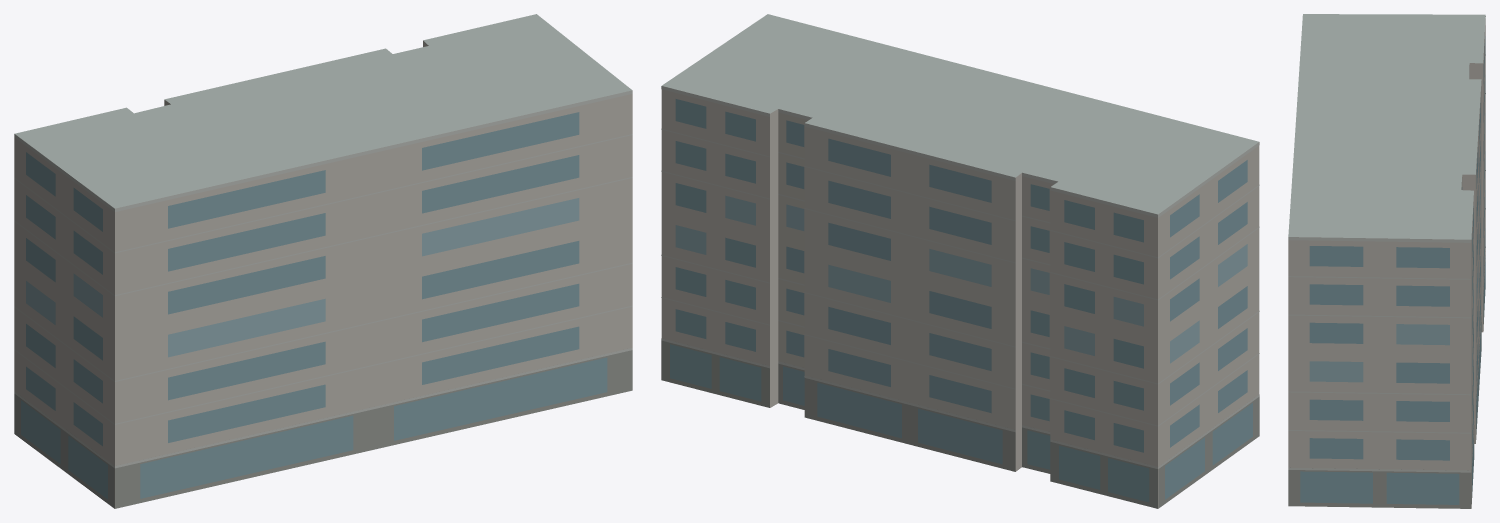
The model's file is survey-upis-32796885.glb.
3 views of the same model, side by side, from view 1: azimuth 30°, elevation 25°; view 2: azimuth 150°, elevation 25°; view 3: azimuth 270°, elevation 25° (orthographic). The views are drawn at different scales.
Parts seen in each view (by area): view 1: survey-upis-32796885.tmp; view 2: survey-upis-32796885.tmp; view 3: survey-upis-32796885.tmp.
Boxes of the visible parts, x1,y1,x2,y2 form: survey-upis-32796885.tmp: [14, 14, 632, 508]; survey-upis-32796885.tmp: [661, 14, 1259, 508]; survey-upis-32796885.tmp: [1288, 14, 1485, 508].
Bounding box in the file's own units: 36.89 × 20.5 × 13.65.
